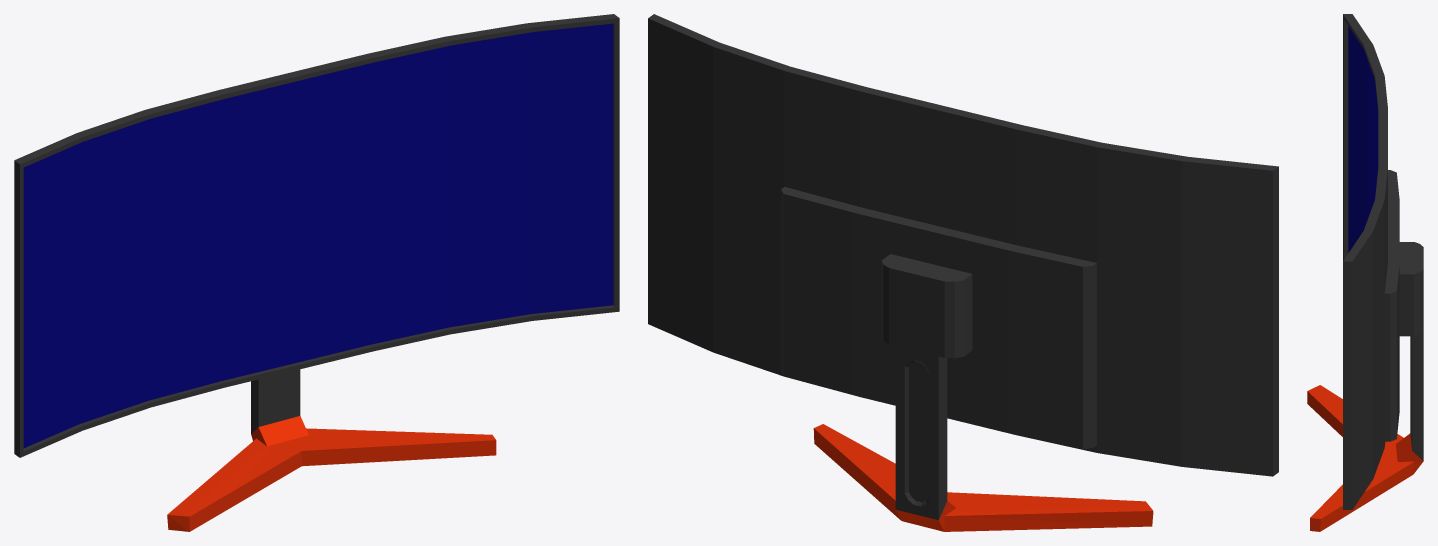
File: PartsMonitor.fbx
3 renders of one model, left to right at view 1: azimuth 30°, elevation 25°; view 2: azimuth 150°, elevation 25°; view 3: azimuth 270°, elevation 25°, orthographic. The views are drawn at different scales.
Parts seen in each view (by area): view 1: Cube_50; view 2: Cube_50; view 3: Cube_50.
Part boxes in pixels (x1,y1,x2,y2): Cube_50: (14,14,619,531); Cube_50: (648,14,1278,531); Cube_50: (1307,14,1423,531).
Bounding box in the file's own units: 152 × 94.02 × 30.13.
